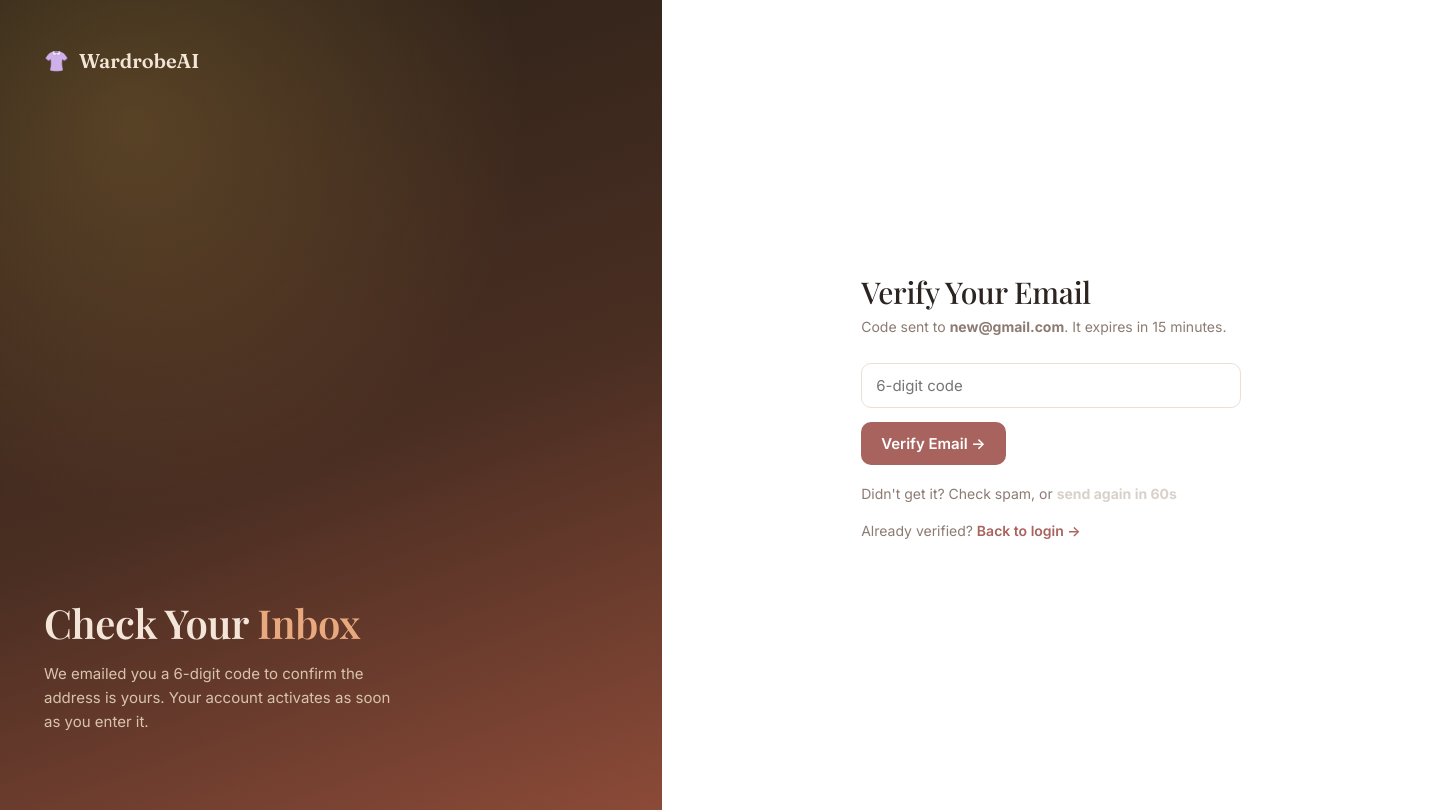
Test: rejects a code that is not 6 digits without calling the server
Expected: the text "new@gmail.com" is shown, top-left (950, 318), bottom-right (1064, 334)
Type "12" into the field with placeholder "6-digit code" at coordinates (1051, 385), box top-left (861, 362), bottom-right (1241, 408)
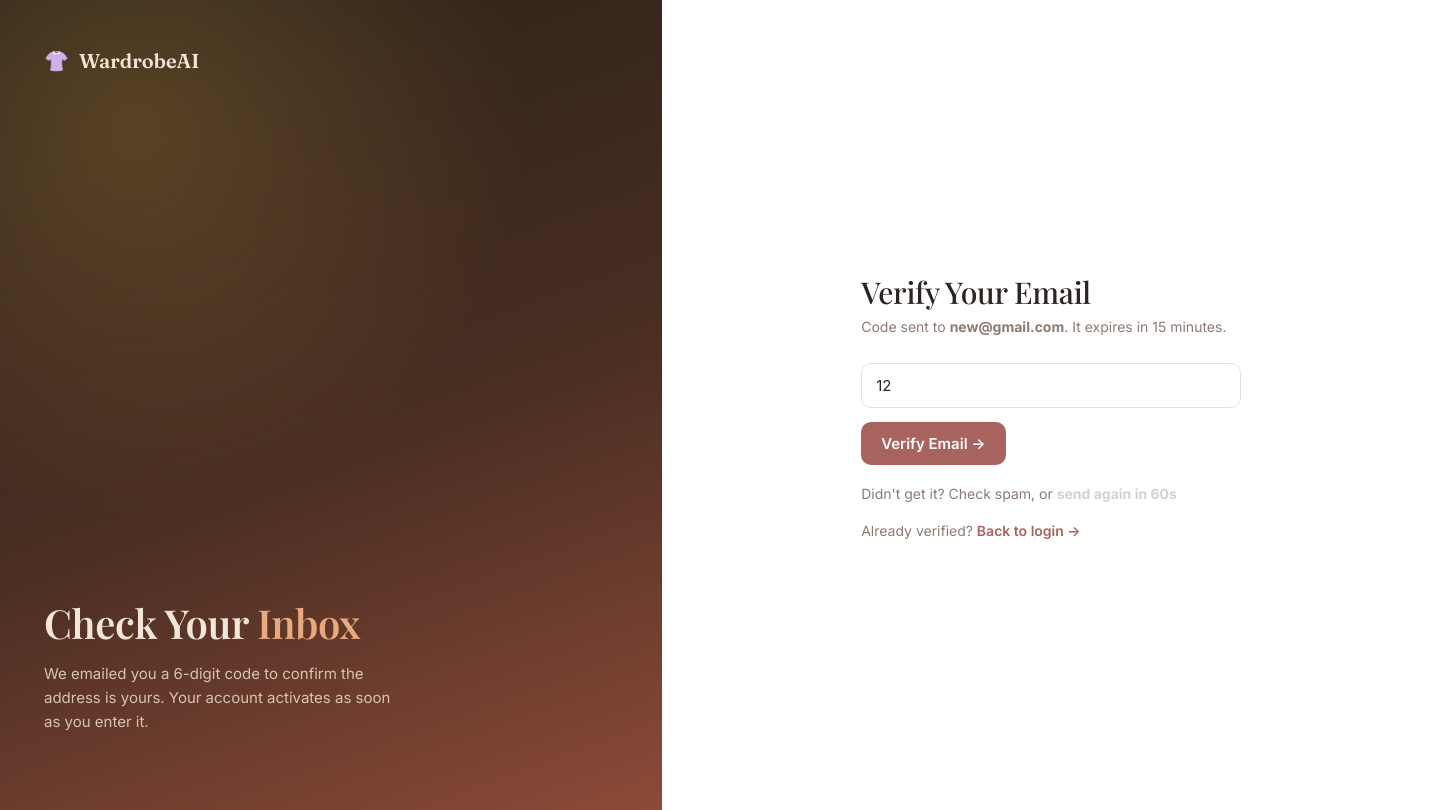
Click the button "Verify Email →" at coordinates (933, 443), box top-left (861, 422), bottom-right (1006, 464)
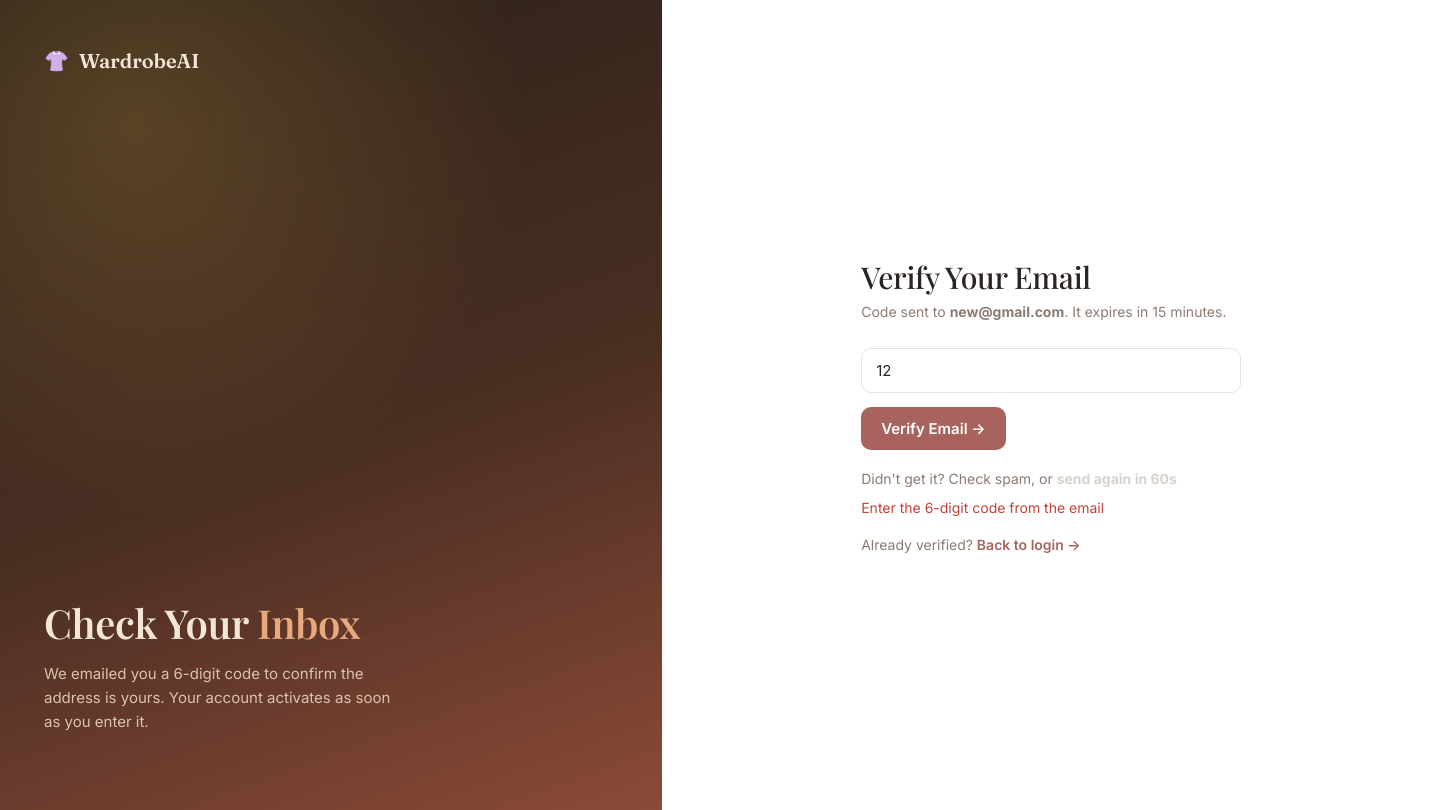
Now the text "Enter the 6-digit code from the email" is shown, box top-left (861, 499), bottom-right (1104, 516)
